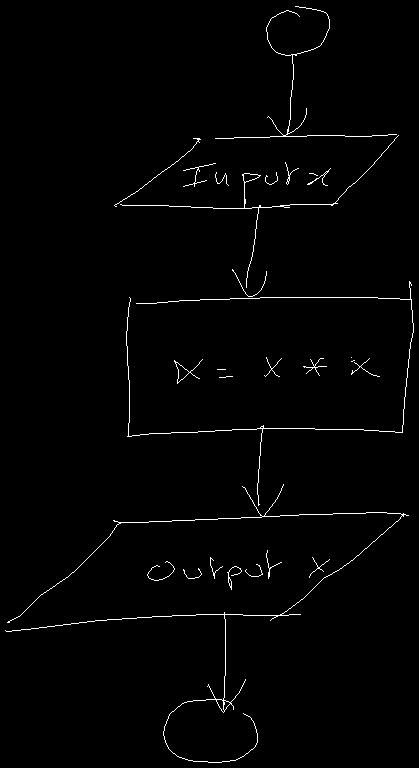arrow: (207, 612, 245, 712), (242, 425, 283, 516), (267, 54, 306, 135), (232, 205, 266, 296)
connection: (163, 699, 257, 762), (266, 6, 329, 55)
data: (5, 512, 408, 631), (114, 134, 398, 208)
process: (126, 281, 413, 436)
text: (147, 550, 329, 589), (183, 162, 330, 207), (174, 357, 379, 383)
